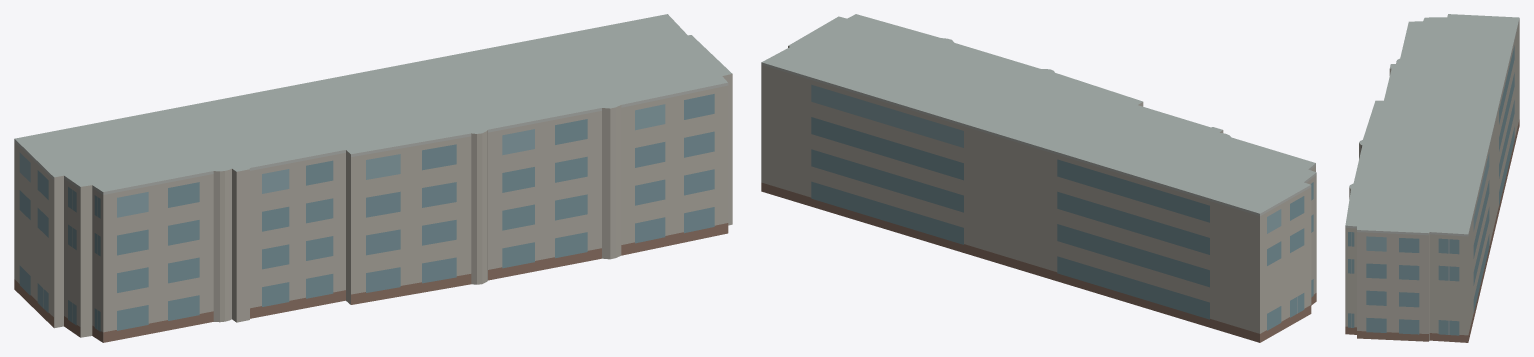
File: survey-upis-32824844.glb
The picture shows the model from 3 angles, left to right: view 1: azimuth 30°, elevation 25°; view 2: azimuth 150°, elevation 25°; view 3: azimuth 270°, elevation 25°; orthographic projection. The views are drawn at different scales.
Visible parts, largest first — view 1: survey-upis-32824844.tmp; view 2: survey-upis-32824844.tmp; view 3: survey-upis-32824844.tmp.
Part boxes in pixels (bbox=[...]): survey-upis-32824844.tmp: bbox=[14, 14, 732, 342]; survey-upis-32824844.tmp: bbox=[761, 14, 1316, 342]; survey-upis-32824844.tmp: bbox=[1345, 14, 1519, 342].
Bounding box in the file's own units: 54.45 × 12.5 × 18.19.
